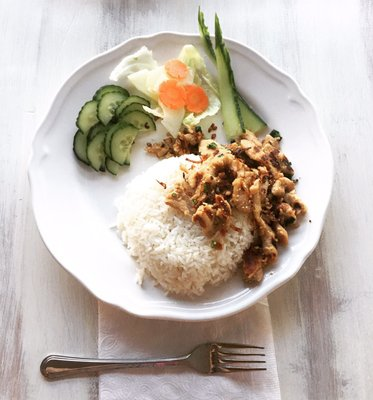burger: (40, 343, 272, 380)
